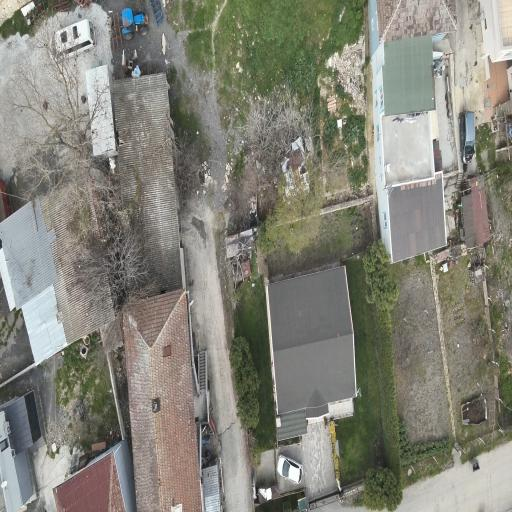car: (53, 19, 95, 59), (459, 111, 475, 164), (121, 8, 148, 39), (278, 455, 303, 484)
